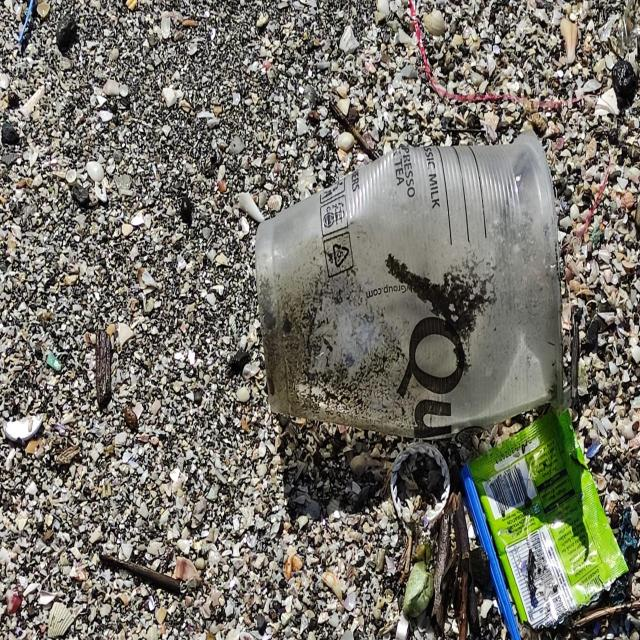plastic_waste: (255, 128, 563, 440), (464, 411, 634, 640)
